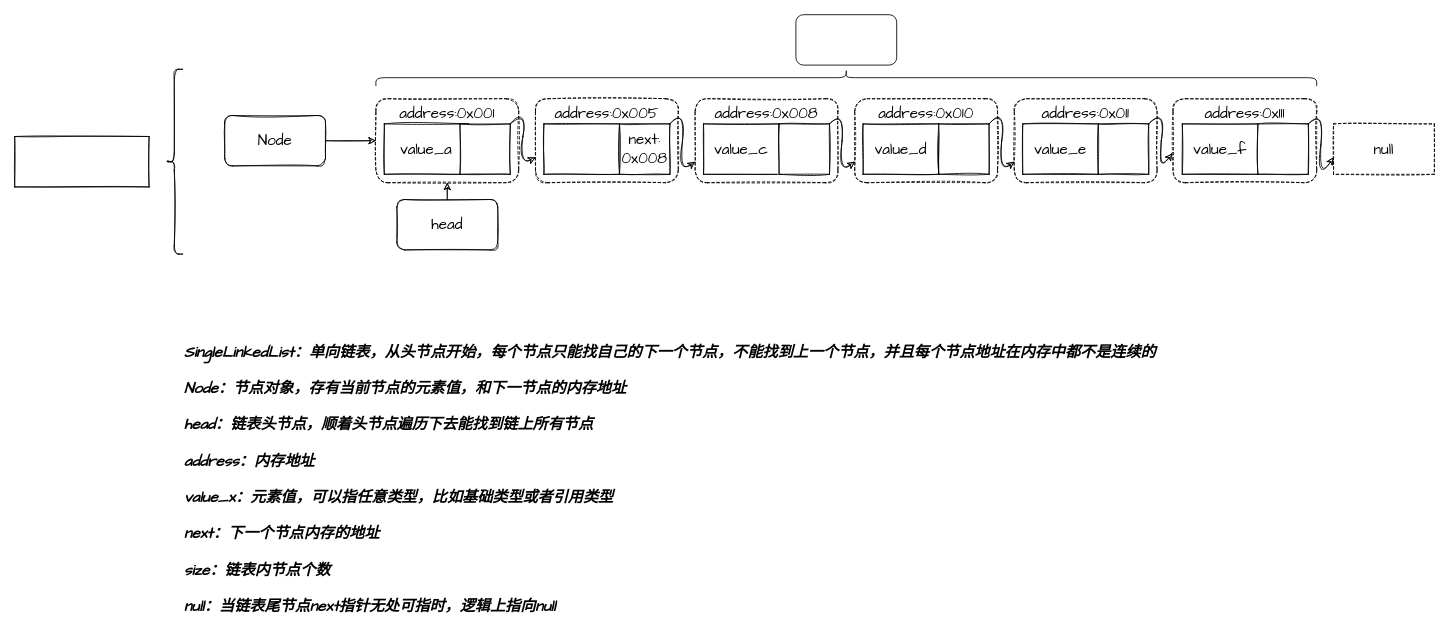
The diagram is 1449 pixels wide and 638 high, and some of its shapes have lost their labels. The centre of each missing label's shape, as x and y in pixels:
next: 0x005: point (484, 148)
next: 0x010: point (804, 148)
next: 0x011: point (963, 148)
next: 0x111: point (1123, 148)
next: null: point (1282, 148)
SingleLinkedList: point (81, 161)
size:6: point (846, 39)
value_b: point (581, 148)
